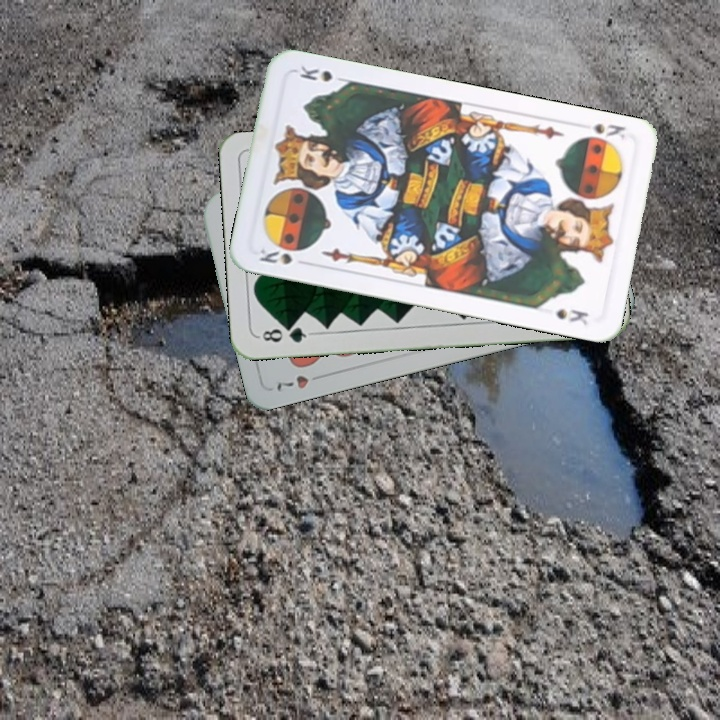G8: (255, 322, 314, 346)
H7: (272, 370, 328, 395)
SK: (255, 242, 295, 268), (590, 119, 628, 143)
